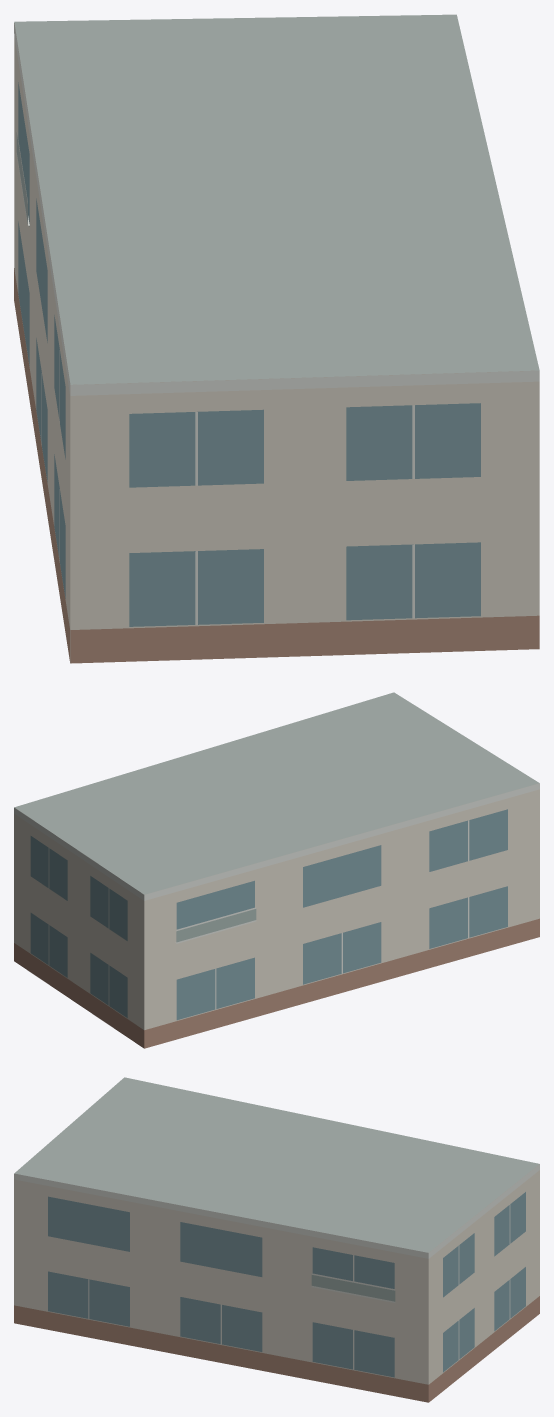
The model's file is survey-upis-32992469.glb.
3 renders of one model, top to bottom at view 1: azimuth 30°, elevation 25°; view 2: azimuth 150°, elevation 25°; view 3: azimuth 270°, elevation 25°, orthographic. The views are drawn at different scales.
Visible parts, largest first — view 1: survey-upis-32992469.tmp; view 2: survey-upis-32992469.tmp; view 3: survey-upis-32992469.tmp.
Part boxes in pixels (box(x1,y1,x2,y2)): survey-upis-32992469.tmp: box(14, 14, 539, 663); survey-upis-32992469.tmp: box(14, 692, 539, 1048); survey-upis-32992469.tmp: box(14, 1077, 539, 1402).
Bounding box in the file's own units: 15.35 × 6.1 × 19.42.
